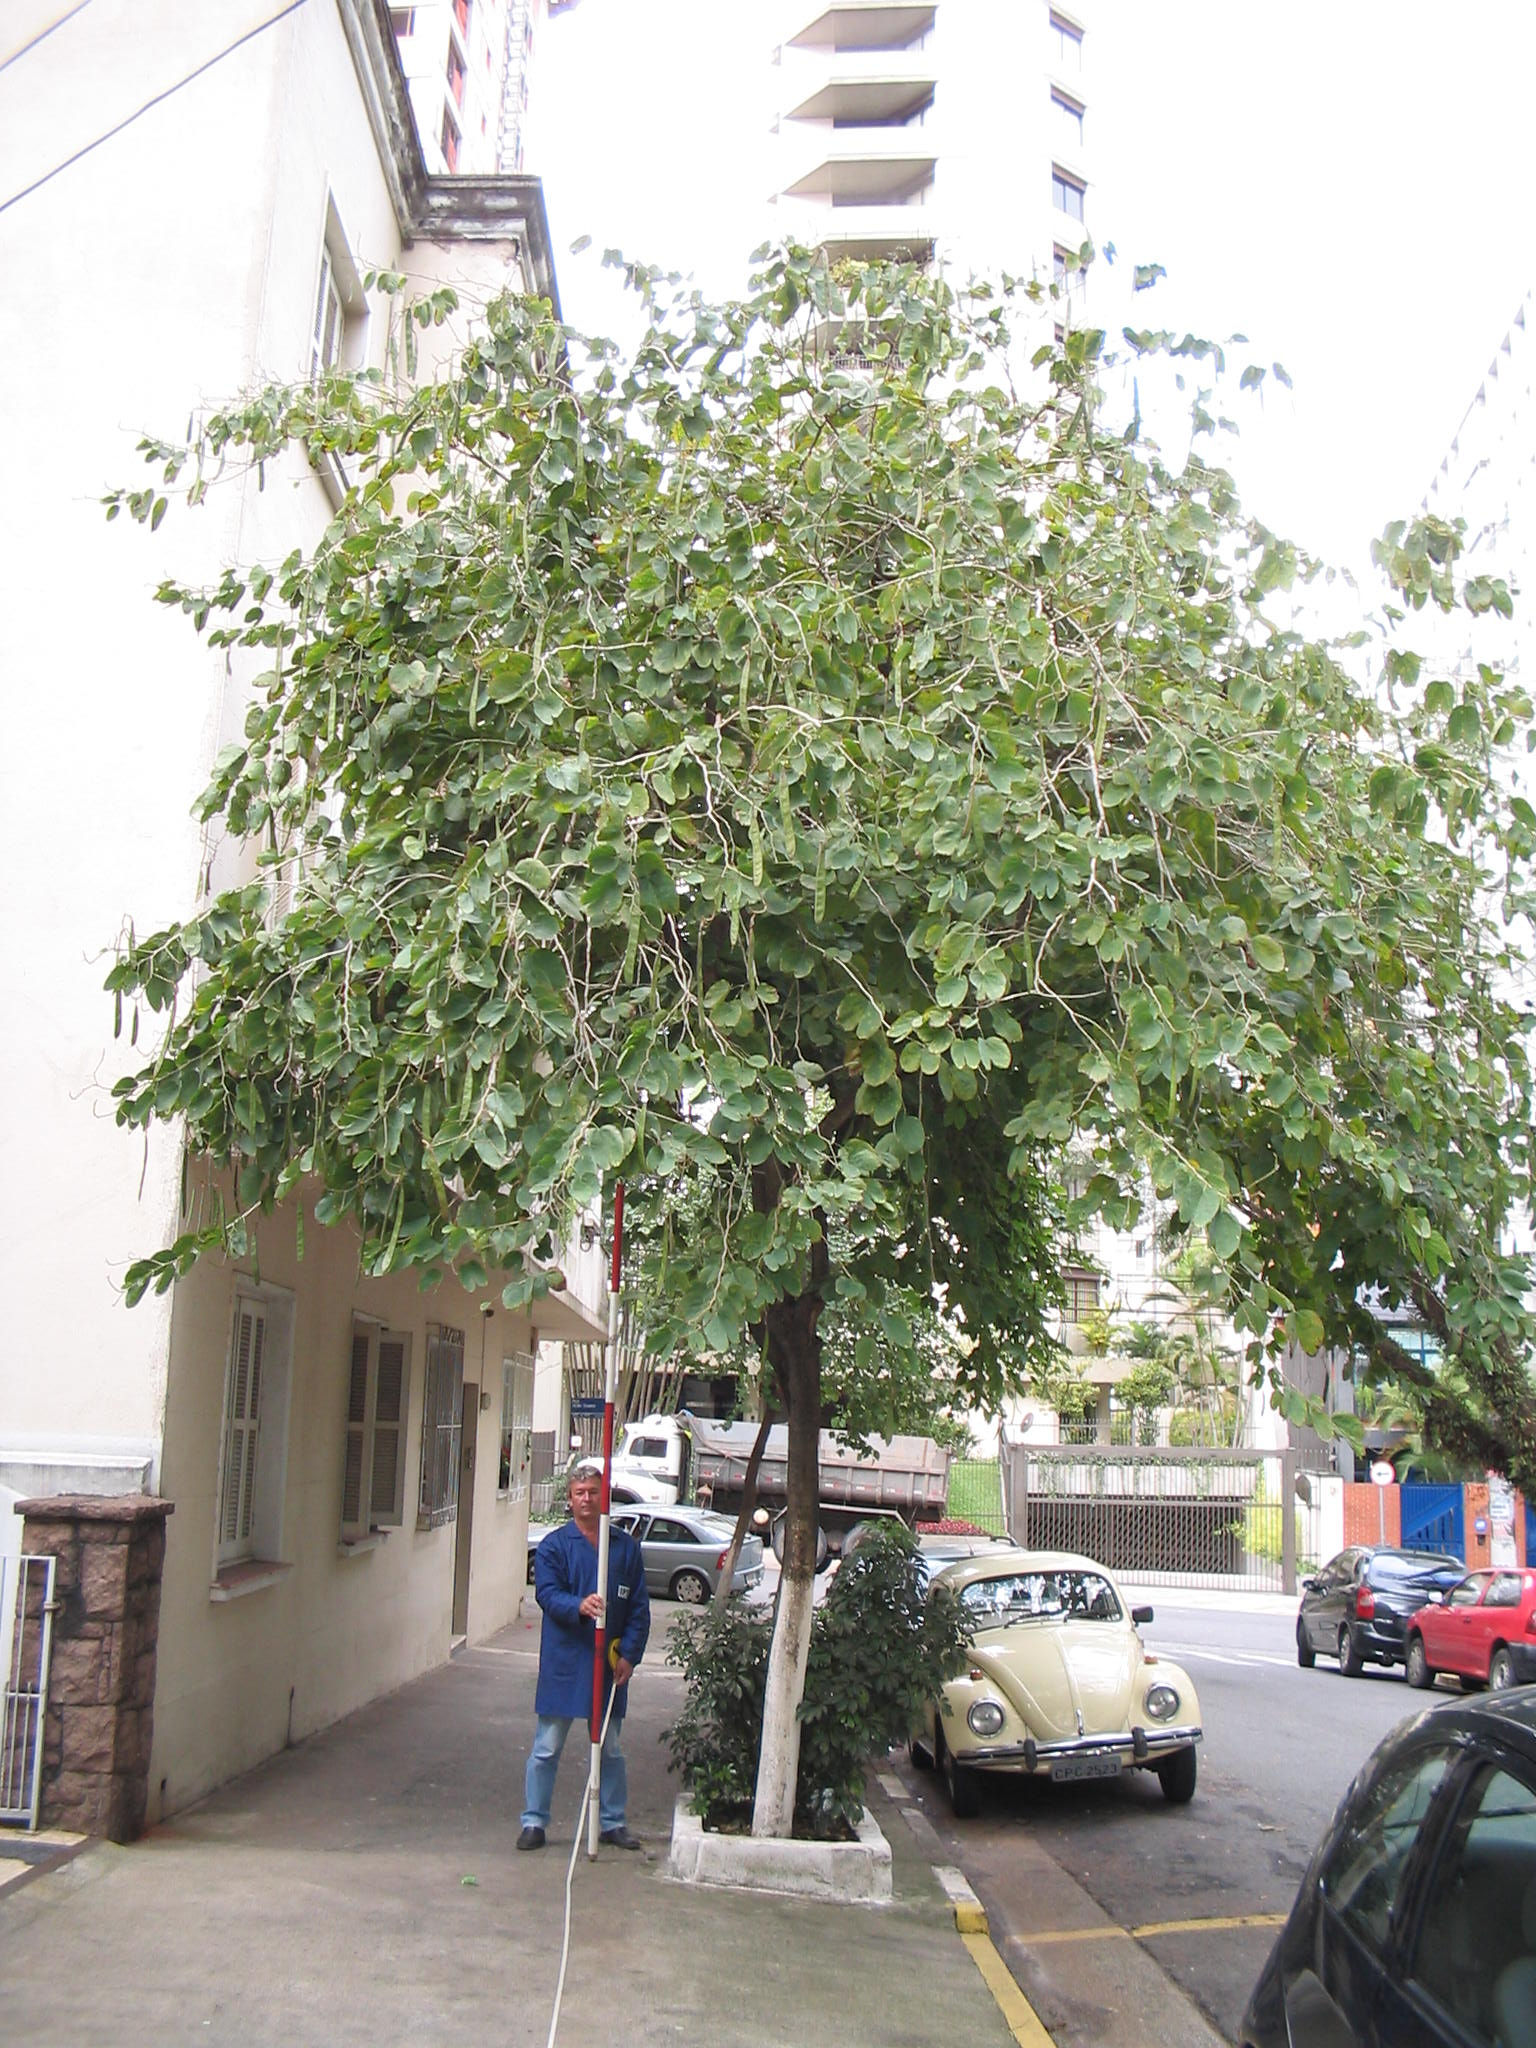crown: (94, 211, 1520, 1405)
stem: (710, 1316, 865, 1832)
stick: (573, 1179, 636, 1866)
tree: (82, 208, 1525, 1842)
